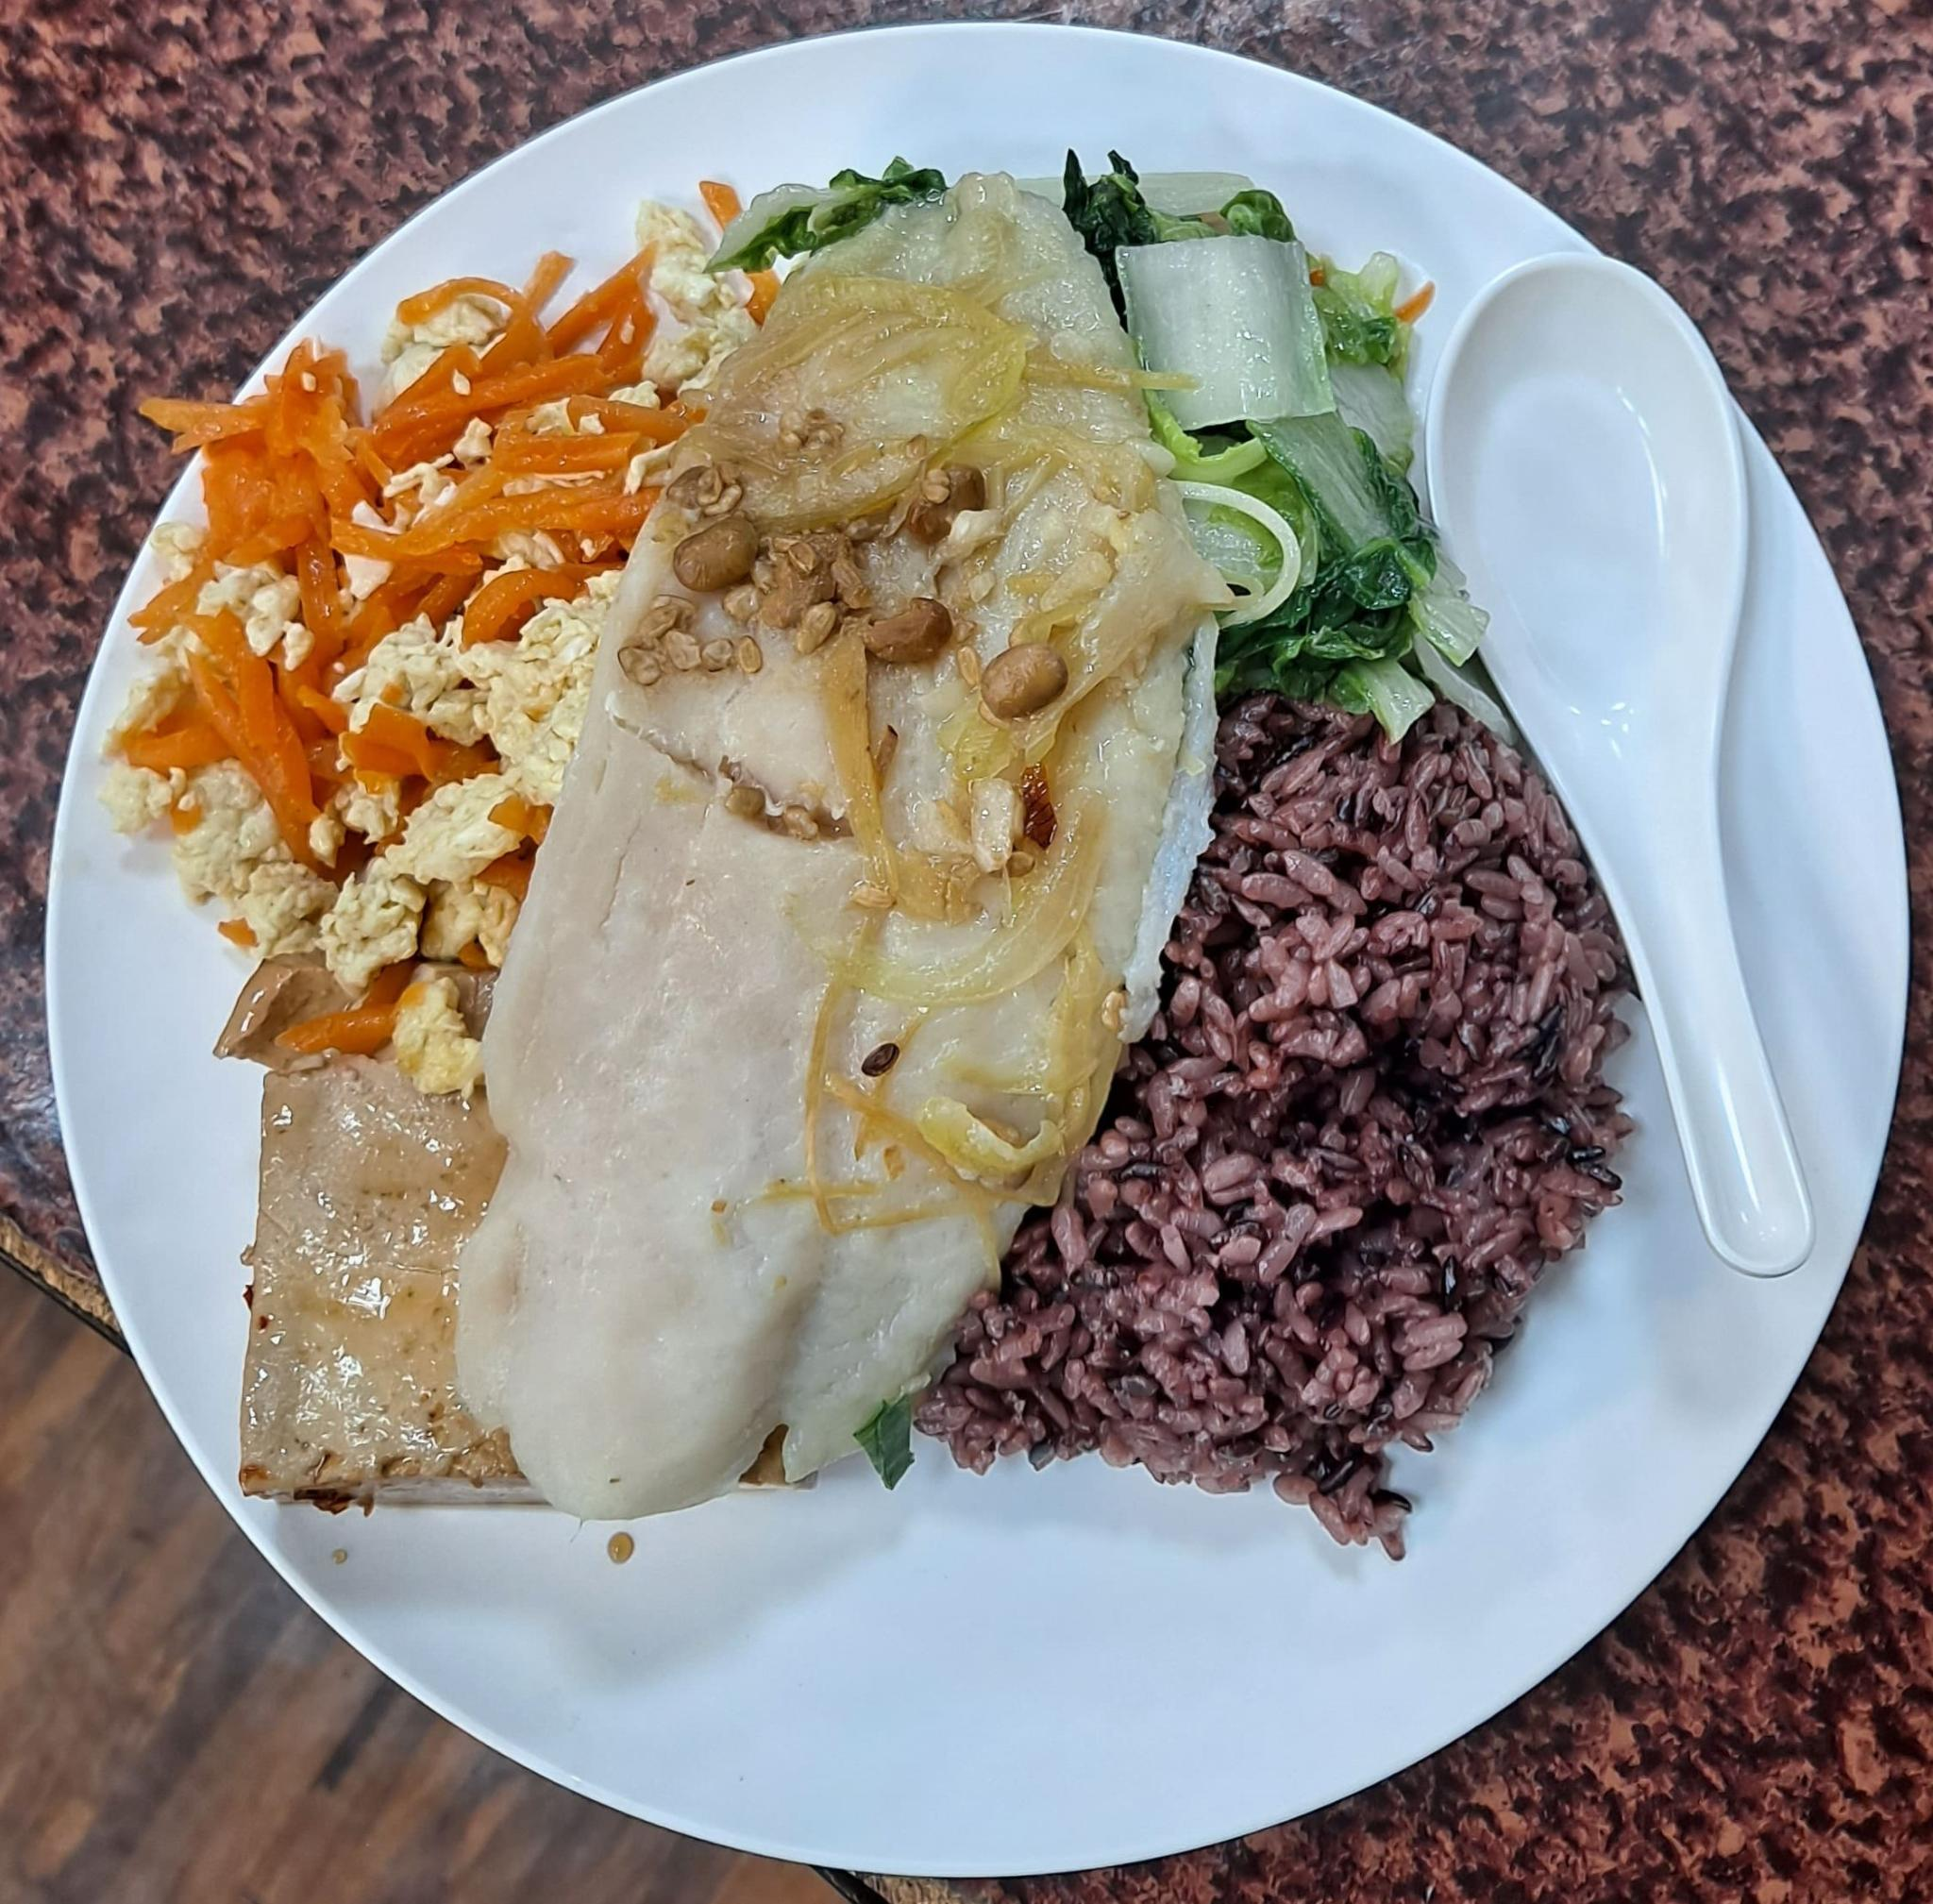big fried chicken leg: (31, 14, 1921, 1885)
braised fish: (945, 713, 1600, 1512)
braised fish fillet: (94, 207, 760, 1086), (756, 152, 1459, 692), (234, 1053, 505, 1512)
braised pork ribs: (441, 174, 1224, 1522)
